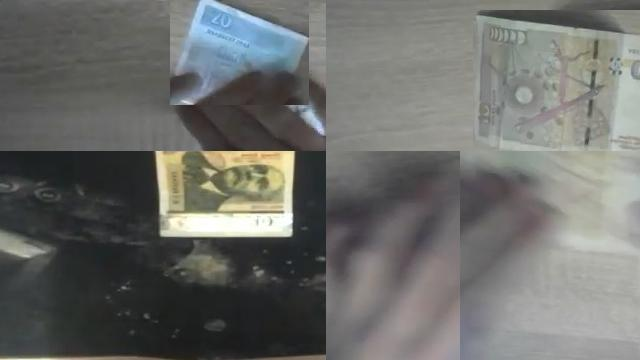10leva: (460, 151, 640, 360), (473, 10, 640, 151)
20leva: (170, 0, 309, 105)
